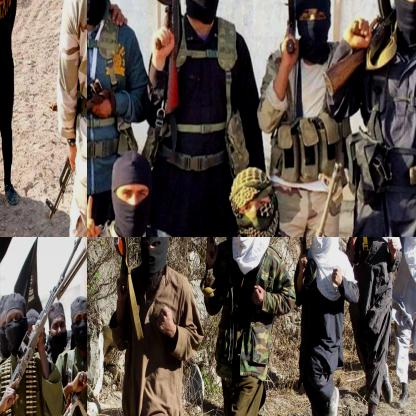rifle: (0, 237, 86, 415), (321, 0, 415, 105), (141, 0, 190, 120), (43, 138, 83, 230), (87, 74, 113, 164), (281, 0, 310, 56), (107, 237, 135, 295), (292, 237, 316, 282), (188, 237, 222, 268)
